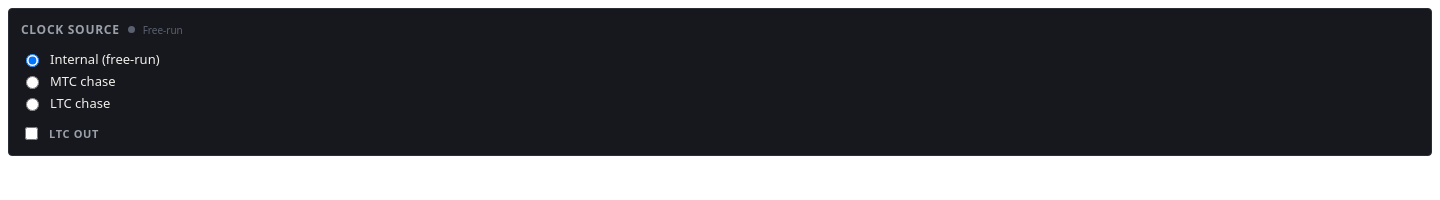
Test case: ClockSourceSettings › missing-device fallback shows warning when IPC returns fallback
The image size is (1440, 200).
Click the radio button with test id "clock-source-radio-ltc" at (32, 104), box [26,98,39,111]
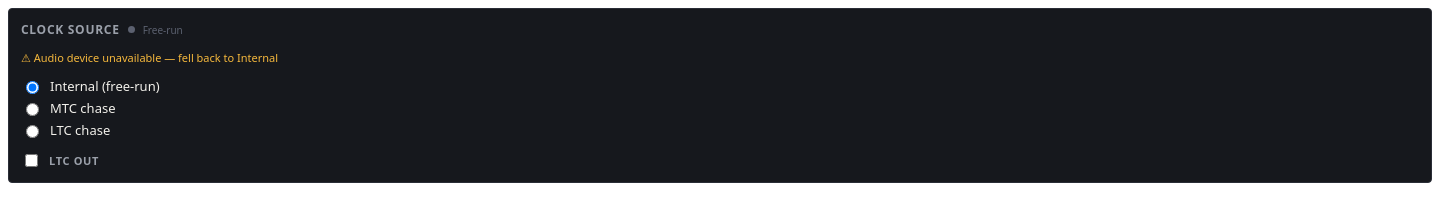
Result: the text "⚠ Audio device unavailable — fell back to Internal" is shown at [21,50,278,65]
